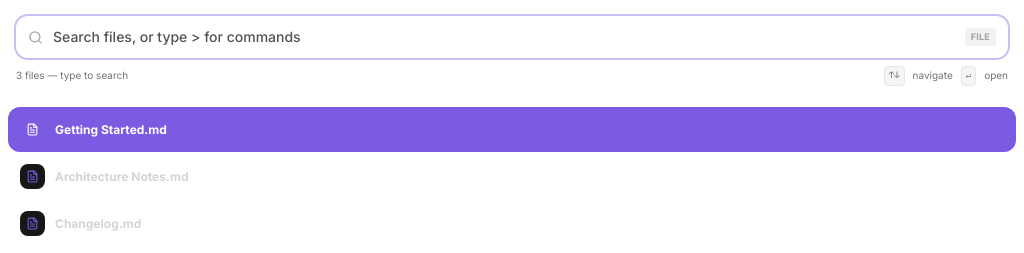
CommandPalette — file mode search › shows "no results" when nothing matches
Type "xyznotfound999" into the dropdown at point(512, 37), box [16, 16, 1008, 58]
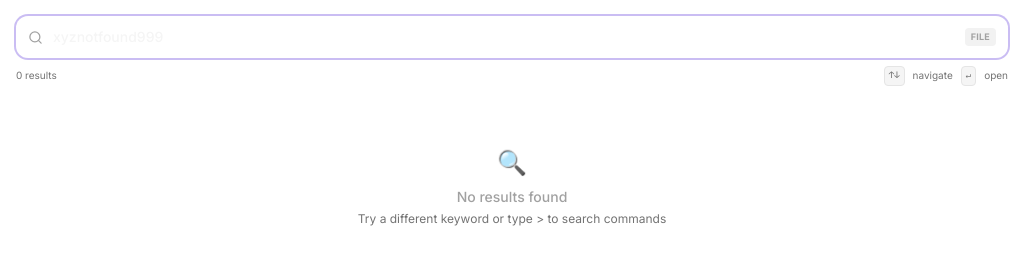
Check: the text "No results found" is shown, box [457, 188, 567, 204]
